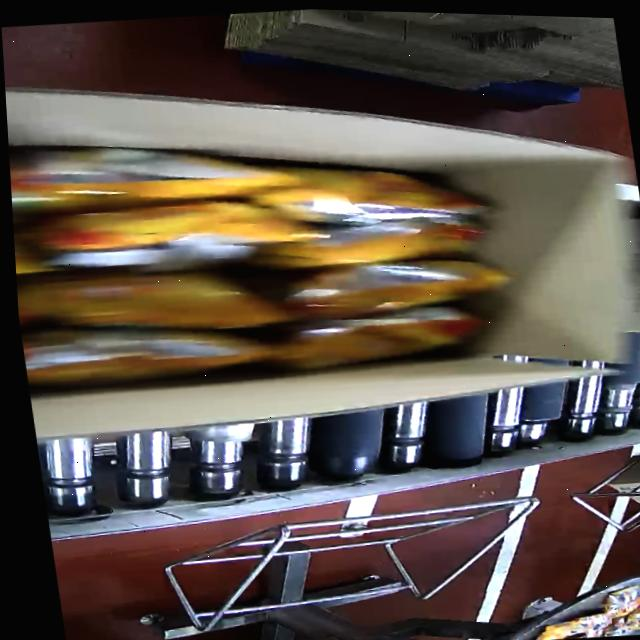FRENCH_CHEESE: (7, 121, 521, 409)
